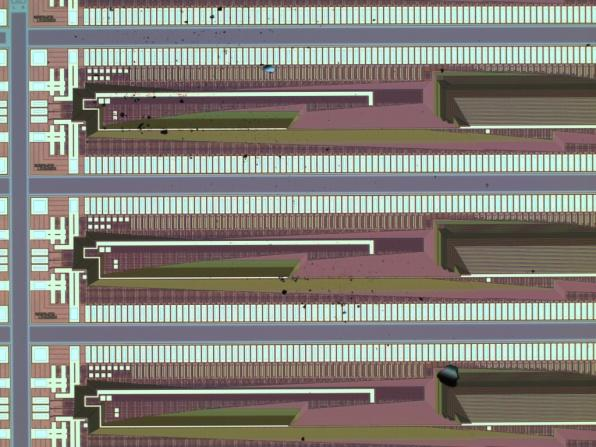PO CONTAMINATION: (74, 3, 592, 446)
